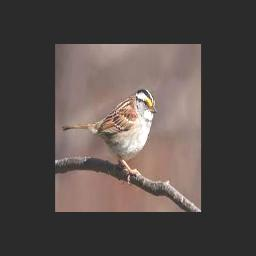Sparrow: (63, 89, 157, 185)
